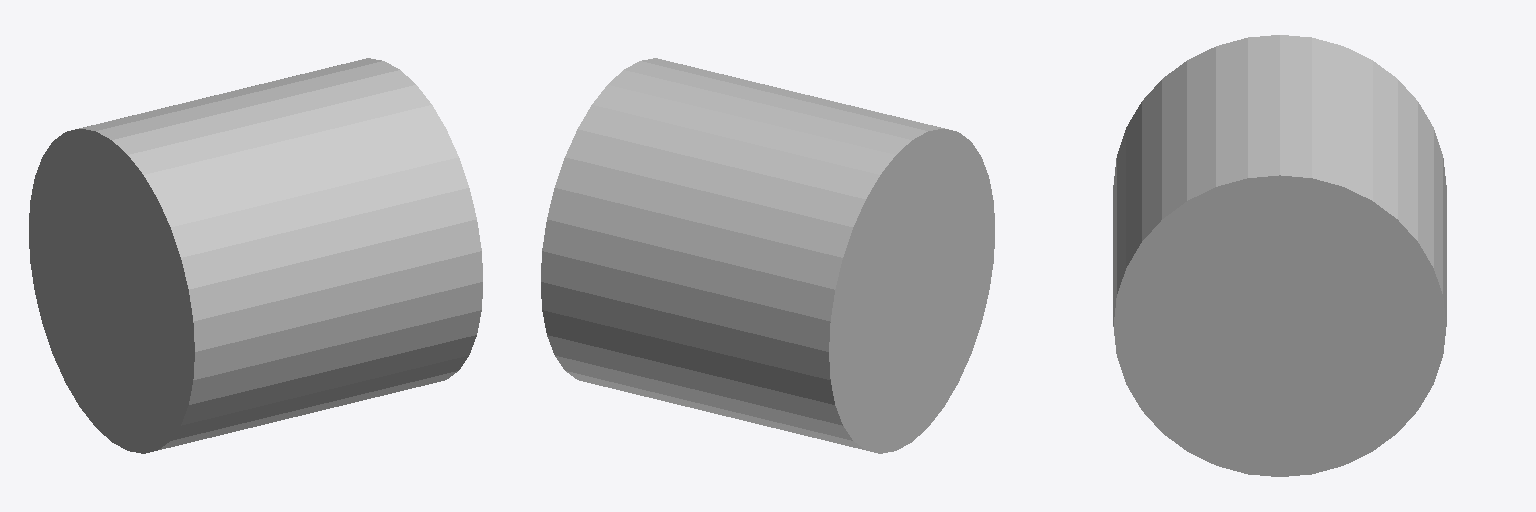
The model's file is maru.obj.
3 renders of one model, left to right at view 1: azimuth 30°, elevation 25°; view 2: azimuth 150°, elevation 25°; view 3: azimuth 270°, elevation 25°, orthographic.
Parts seen in each view (by area): view 1: 円柱; view 2: 円柱; view 3: 円柱.
Boxes of the visible parts, box(x1,y1,x2,y2) form: 円柱: box(29, 58, 482, 453); 円柱: box(541, 58, 994, 453); 円柱: box(1113, 35, 1446, 476).
Size of the model in its own units: 2 by 2 by 2.